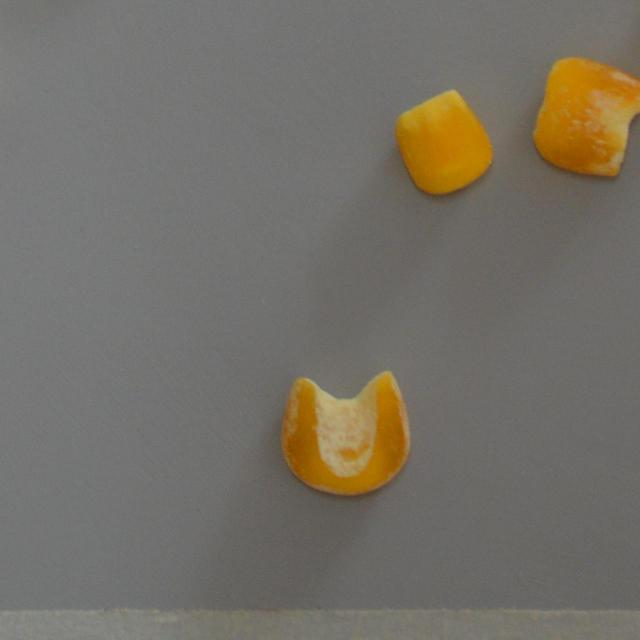dañado: (276, 366, 414, 498), (528, 50, 640, 186)
pelicula: (390, 84, 496, 198)
